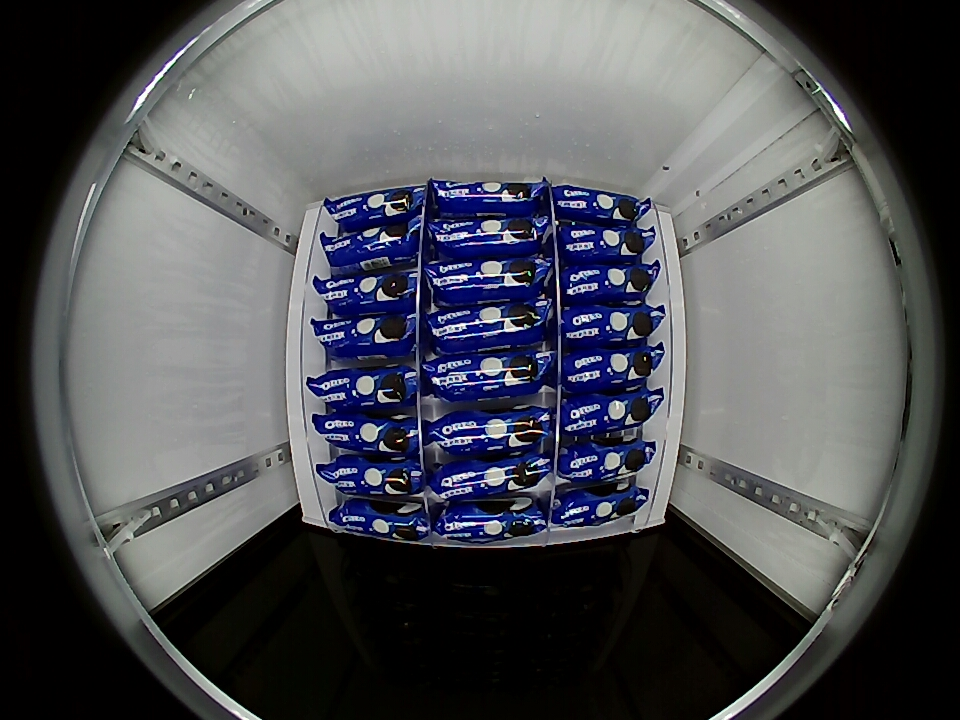aoliao: (424, 343, 548, 403), (427, 297, 547, 354), (427, 253, 547, 307), (427, 407, 550, 459), (429, 453, 546, 504), (431, 498, 546, 547), (430, 175, 548, 222), (307, 363, 416, 413), (321, 217, 420, 272), (312, 309, 414, 362), (430, 212, 543, 259), (321, 182, 427, 231), (561, 343, 657, 394), (321, 453, 425, 500), (550, 483, 641, 536), (560, 389, 649, 443), (313, 269, 412, 317), (328, 497, 429, 543), (310, 409, 407, 456), (557, 440, 647, 489), (562, 300, 649, 347), (552, 182, 638, 228), (562, 259, 640, 305), (559, 218, 634, 263)
